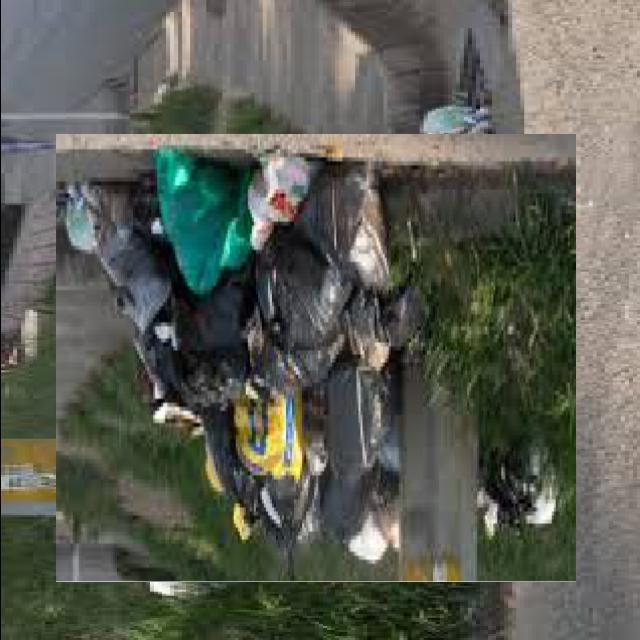Trashbag: (172, 272, 255, 403), (193, 392, 260, 515), (252, 250, 333, 350), (323, 364, 390, 484), (322, 173, 396, 279), (488, 435, 556, 526), (246, 334, 349, 394), (252, 456, 314, 548), (364, 270, 428, 354)
